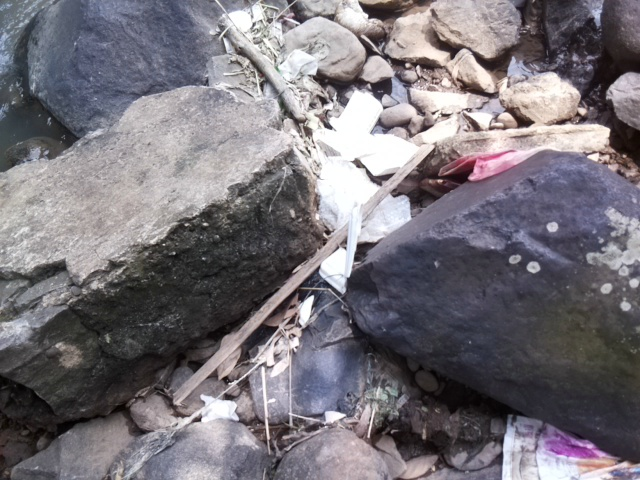Sampah_Styrofoam: (316, 86, 414, 283)
